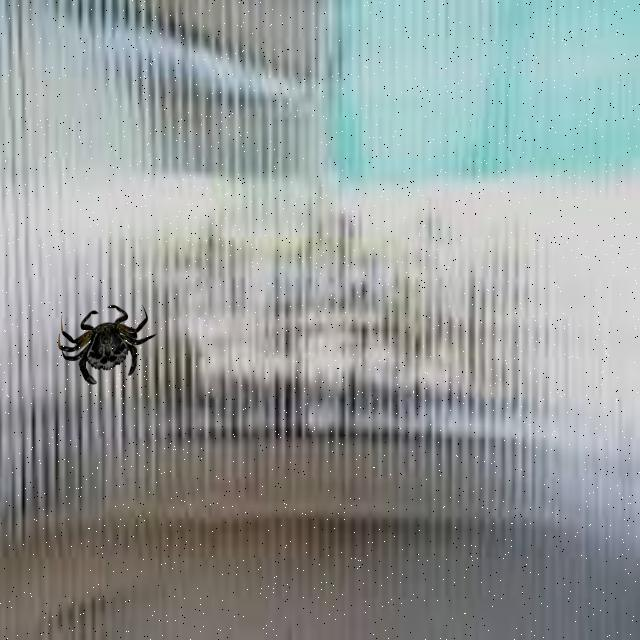European_Green_Crab: (54, 286, 159, 402)
